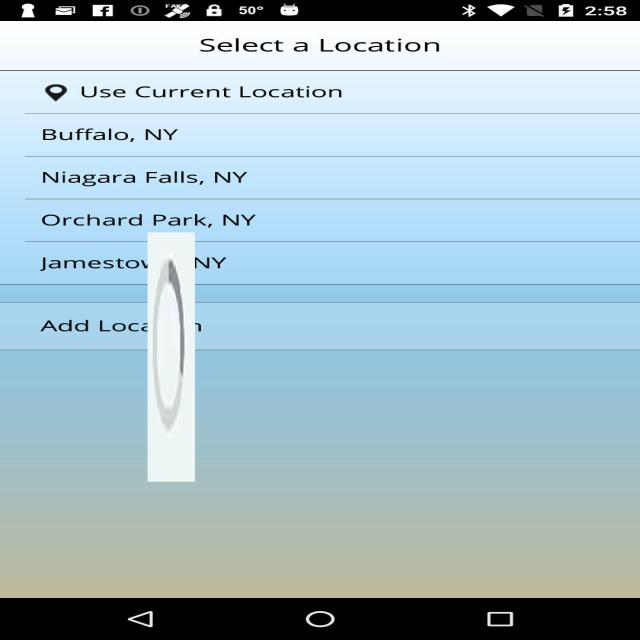misdirection: (148, 232, 195, 482)
